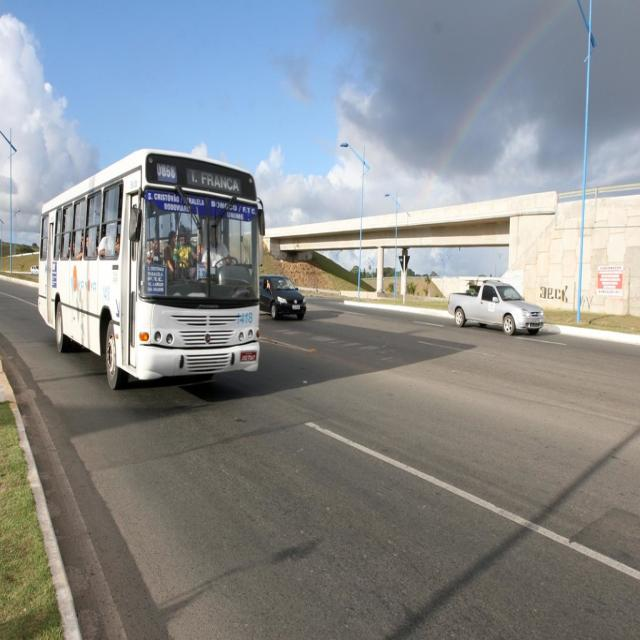car: (449, 273, 547, 333)
